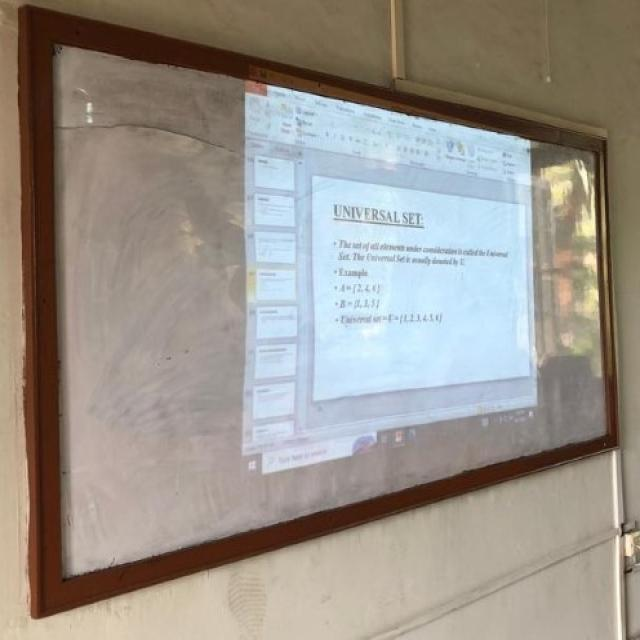Slide: (243, 72, 542, 476)
White-board: (39, 18, 621, 601)
